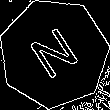N_SE: (23, 21, 84, 86)
